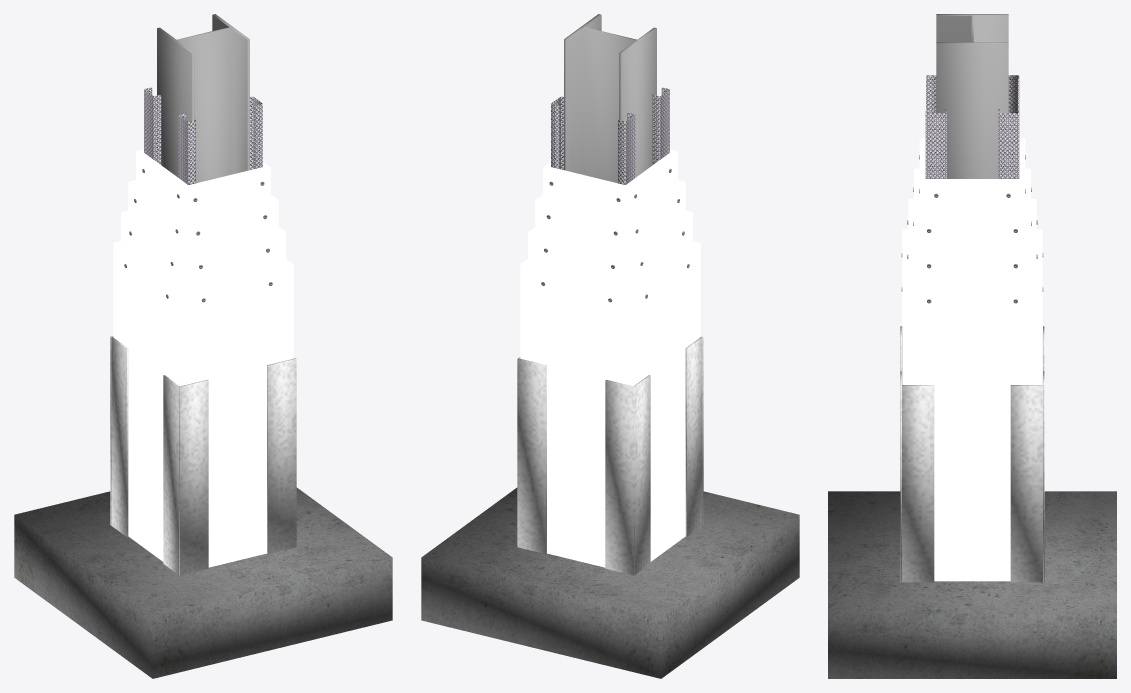
File: fireprotaction.gltf
3 renders of one model, left to right at view 1: azimuth 30°, elevation 25°; view 2: azimuth 150°, elevation 25°; view 3: azimuth 270°, elevation 25°, orthographic. The views are drawn at different scales.
Visible parts, largest first — view 1: Краска - Белый (ГСП), Бетон - 10, Штукатурка - Высококачественн_88a1875, Металл - Хром 01, Краска - Белила Титановые, Металл - Перфорированный; view 2: Краска - Белый (ГСП), Бетон - 10, Штукатурка - Высококачественн_88a1875, Металл - Хром 01, Краска - Белила Титановые, Металл - Перфорированный; view 3: Бетон - 10, Краска - Белый (ГСП), Штукатурка - Высококачественн_88a1875, Металл - Хром 01, Краска - Белила Титановые, Металл - Перфорированный.
Part boxes in pixels (x1,y1,x2,y2): Краска - Белый (ГСП): (113,151,289,567); Бетон - 10: (14,487,392,678); Штукатурка - Высококачественн_88a1875: (110,336,296,575); Металл - Хром 01: (157,14,249,183); Краска - Белила Титановые: (113,149,293,386); Металл - Перфорированный: (144,87,262,184); Краска - Белый (ГСП): (524,151,700,567); Бетон - 10: (421,487,799,678); Штукатурка - Высококачественн_88a1875: (517,336,703,575); Металл - Хром 01: (564,14,656,183); Краска - Белила Титановые: (520,149,700,386); Металл - Перфорированный: (551,87,669,184); Бетон - 10: (828,491,1116,678); Краска - Белый (ГСП): (902,141,1042,581); Штукатурка - Высококачественн_88a1875: (900,326,1044,582); Металл - Хром 01: (936,14,1008,178); Краска - Белила Титановые: (902,138,1042,286); Металл - Перфорированный: (925,75,1019,178).
Size of the model in its own units: 0.8 by 1.8 by 0.8.
Materials: 7 (3 with a texture image).
